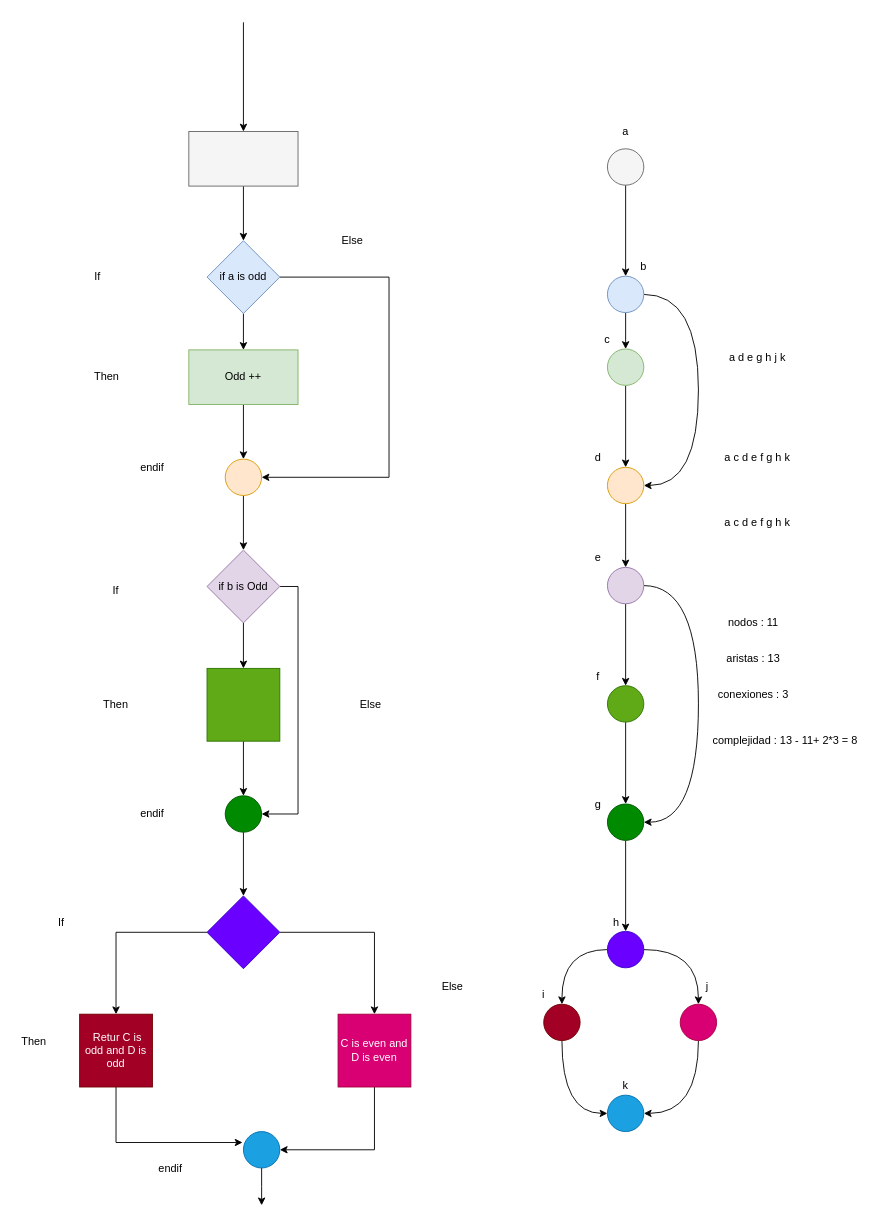
Image size: 877x1229. Some labels were removed from this diagram. The shapes that lost their labels are listed below. From the top down, each one's box as (x1, y1, x2, y2) in pixels, then its label:
(188, 131, 298, 186): c = a + b d = a - b odd = 0
(206, 667, 280, 741): Odd++
(206, 895, 280, 969): Odd == 1
